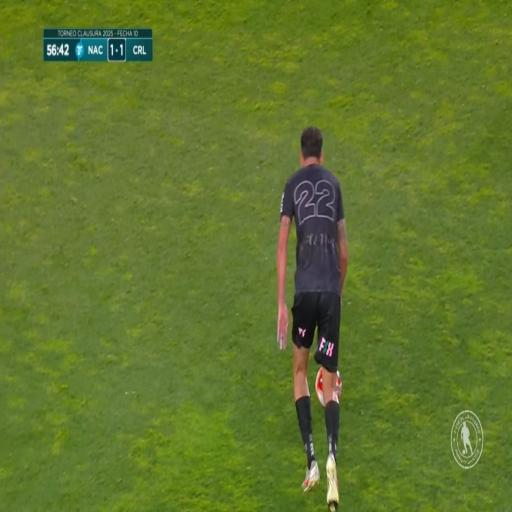Ball: (316, 358, 342, 412)
Player: (276, 126, 351, 500)
